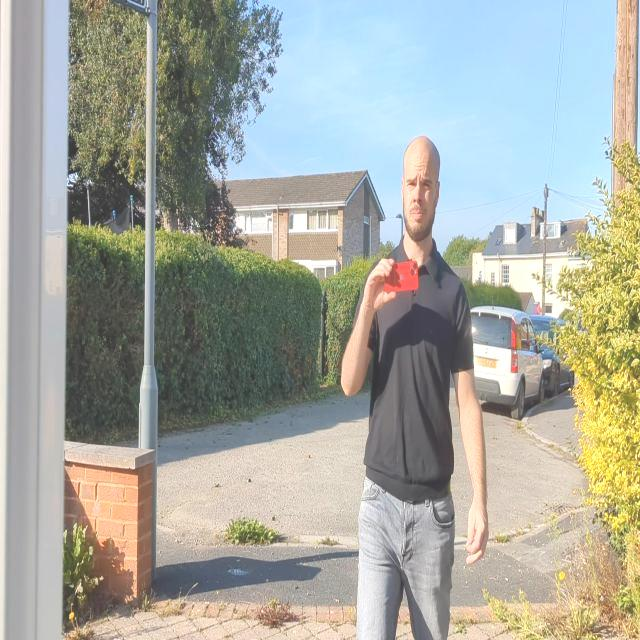lens: (408, 261, 418, 276)
phone: (384, 260, 419, 292)
